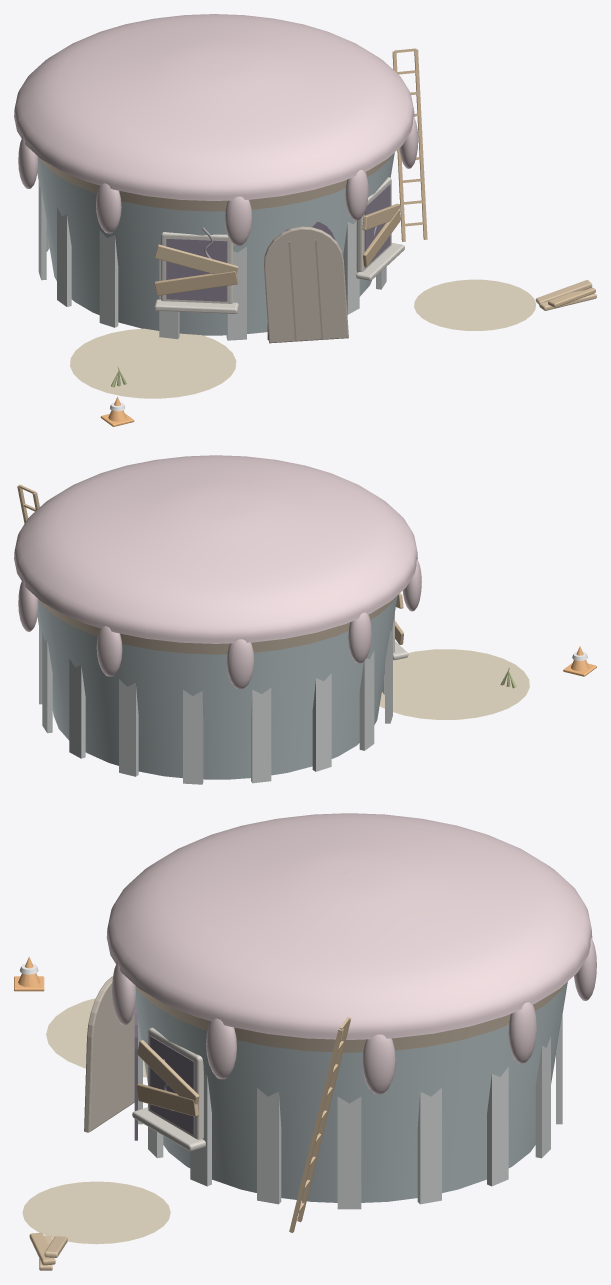
Rendered from building_sweets_L02.glb.
3 renders of one model, top to bottom at view 1: azimuth 30°, elevation 25°; view 2: azimuth 150°, elevation 25°; view 3: azimuth 270°, elevation 25°, orthographic. The views are drawn at different scales.
Parts seen in each view (by area): view 1: Body, sweets_L2; view 2: Body, sweets_L2; view 3: Body, sweets_L2.
Part boxes in pixels (x1,y1,x2,y2): Body: [14, 14, 418, 343]; sweets_L2: [70, 48, 596, 426]; Body: [14, 455, 421, 784]; sweets_L2: [17, 484, 596, 719]; Body: [84, 813, 596, 1209]; sweets_L2: [14, 956, 350, 1270].
Size of the model in its own units: 20.56 by 8.24 by 17.29.
